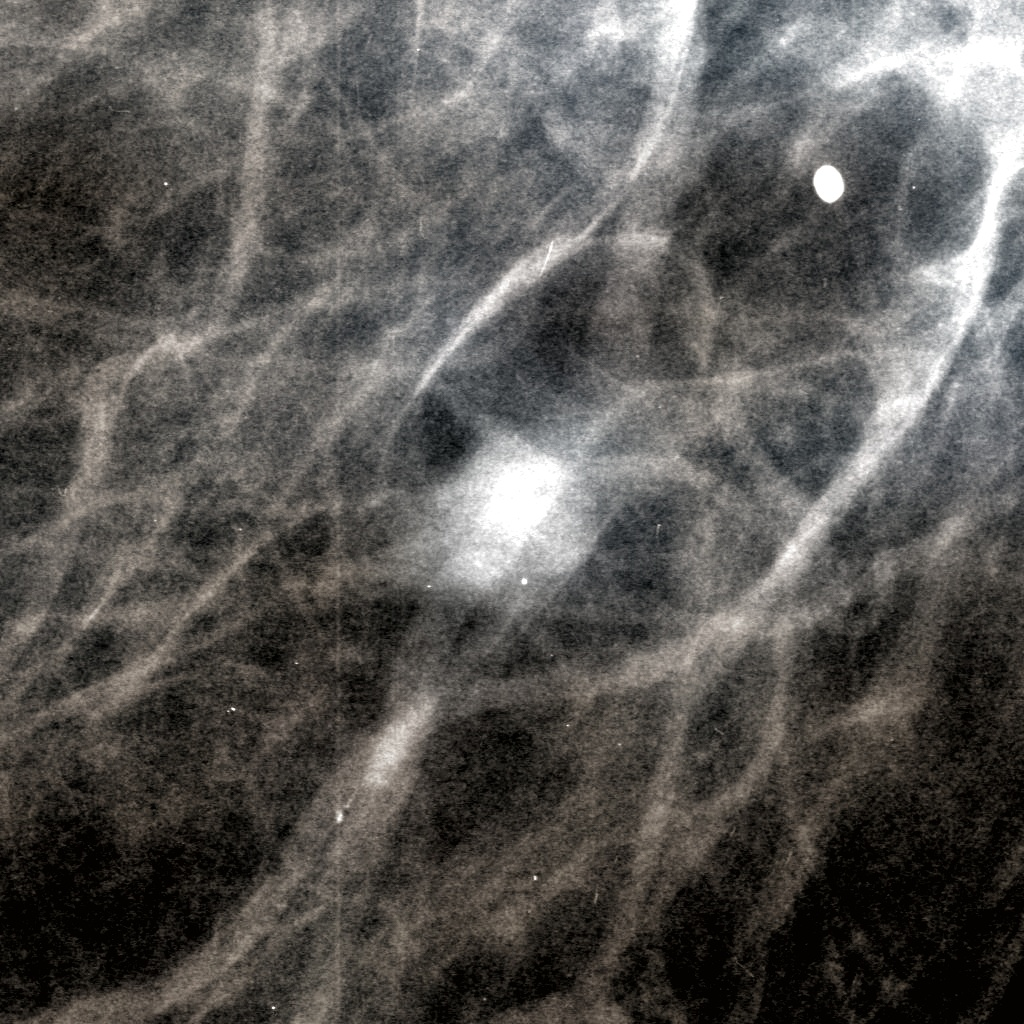tumor: (402, 404, 622, 620)
